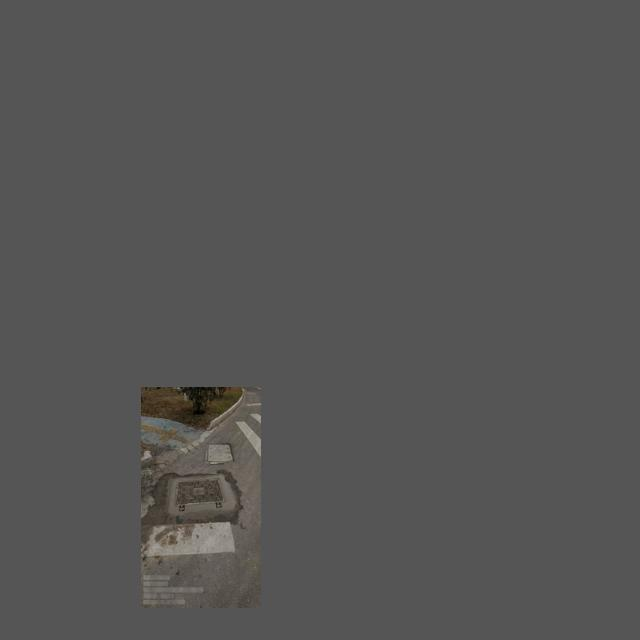good: (173, 477, 226, 511), (205, 442, 234, 464)
